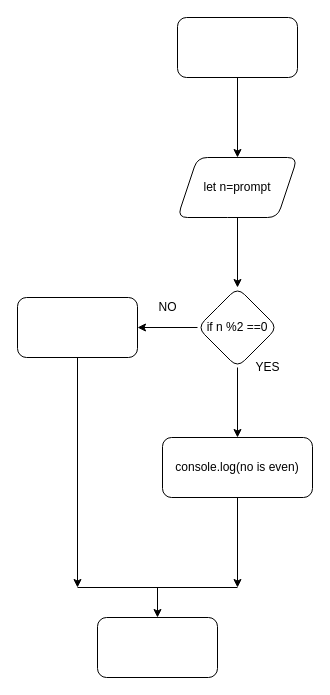
Image size: 330x695. Some labels were removed from this diagram. Each missing label, with the centre of its shape:
console.log(no is not even): pixel 77 327
START: pixel 237 47
